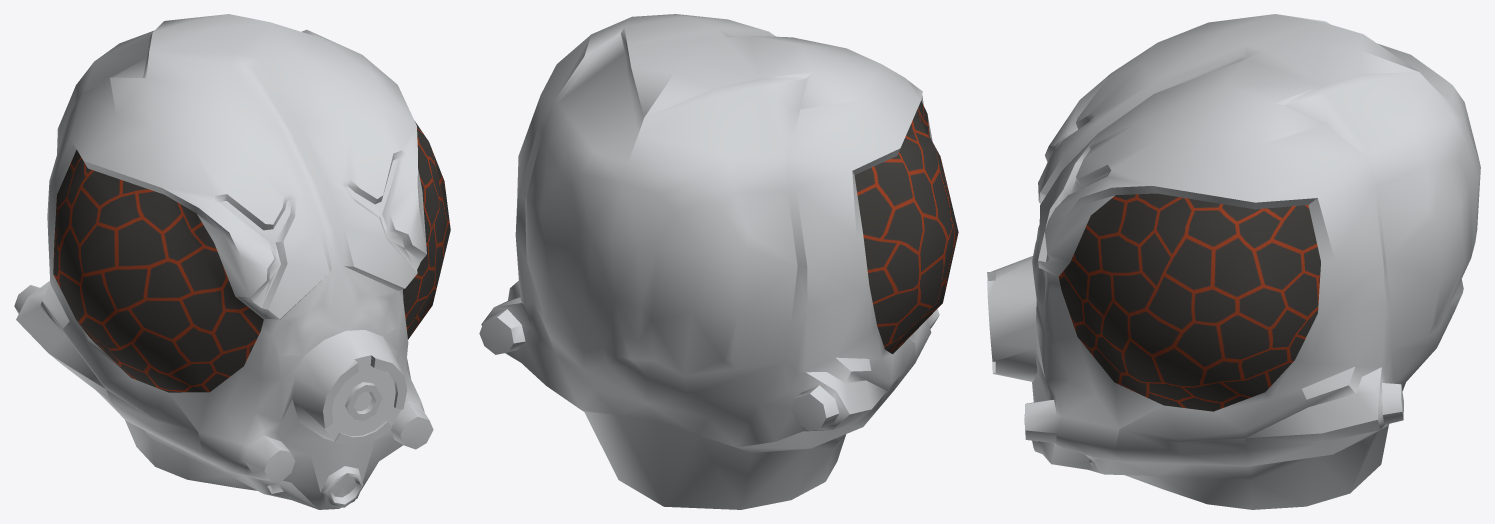
Rendered from 4-LOM head.gltf.
3 renders of one model, left to right at view 1: azimuth 30°, elevation 25°; view 2: azimuth 150°, elevation 25°; view 3: azimuth 270°, elevation 25°, orthographic. The views are drawn at different scales.
Parts seen in each view (by area): view 1: Object; view 2: Object; view 3: Object.
Part boxes in pixels (left/top/right/bottom): Object: left=14, top=14, right=450, bottom=509; Object: left=479, top=14, right=958, bottom=509; Object: left=987, top=14, right=1480, bottom=509.
Bounding box in the file's own units: 0.645 × 0.6728 × 0.7218.
2 materials, 1 textured.
